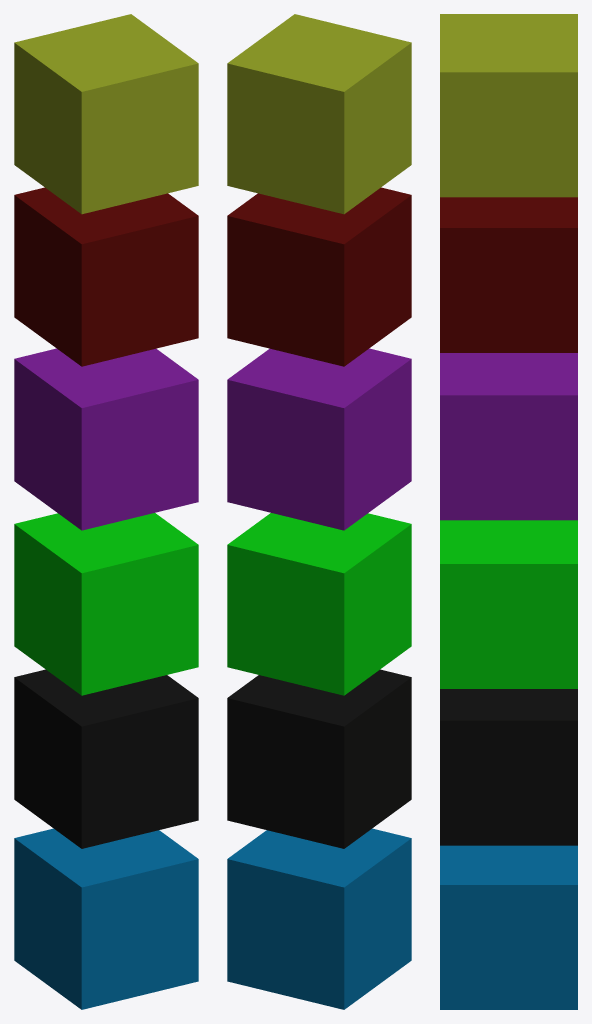
The model's file is AllColorAlts.fbx.
The picture shows the model from 3 angles, left to right: view 1: azimuth 30°, elevation 25°; view 2: azimuth 150°, elevation 25°; view 3: azimuth 270°, elevation 25°; orthographic projection. The views are drawn at different scales.
Visible parts, largest first — view 1: Cube.007, Cube.004, Cube.005, Cube.003, Cube.002, Cube.006; view 2: Cube.007, Cube.004, Cube.005, Cube.003, Cube.002, Cube.006; view 3: Cube.007, Cube.004, Cube.005, Cube.003, Cube.002, Cube.006.
Boxes of the visible parts, x1,y1,x2,y2 form: Cube.007: (14,14,198,214); Cube.004: (14,513,198,695); Cube.005: (14,348,198,530); Cube.003: (14,828,198,1009); Cube.002: (14,669,198,848); Cube.006: (14,187,198,366); Cube.007: (227,14,411,214); Cube.004: (227,513,411,695); Cube.005: (227,348,411,530); Cube.003: (227,828,411,1009); Cube.002: (227,669,411,848); Cube.006: (227,187,411,366); Cube.007: (440,14,577,197); Cube.004: (440,520,577,688); Cube.005: (440,353,577,520); Cube.003: (440,845,577,1009); Cube.002: (440,689,577,845); Cube.006: (440,197,577,352).
Bounding box in the file's own units: 0.1 × 0.7499 × 0.1.
